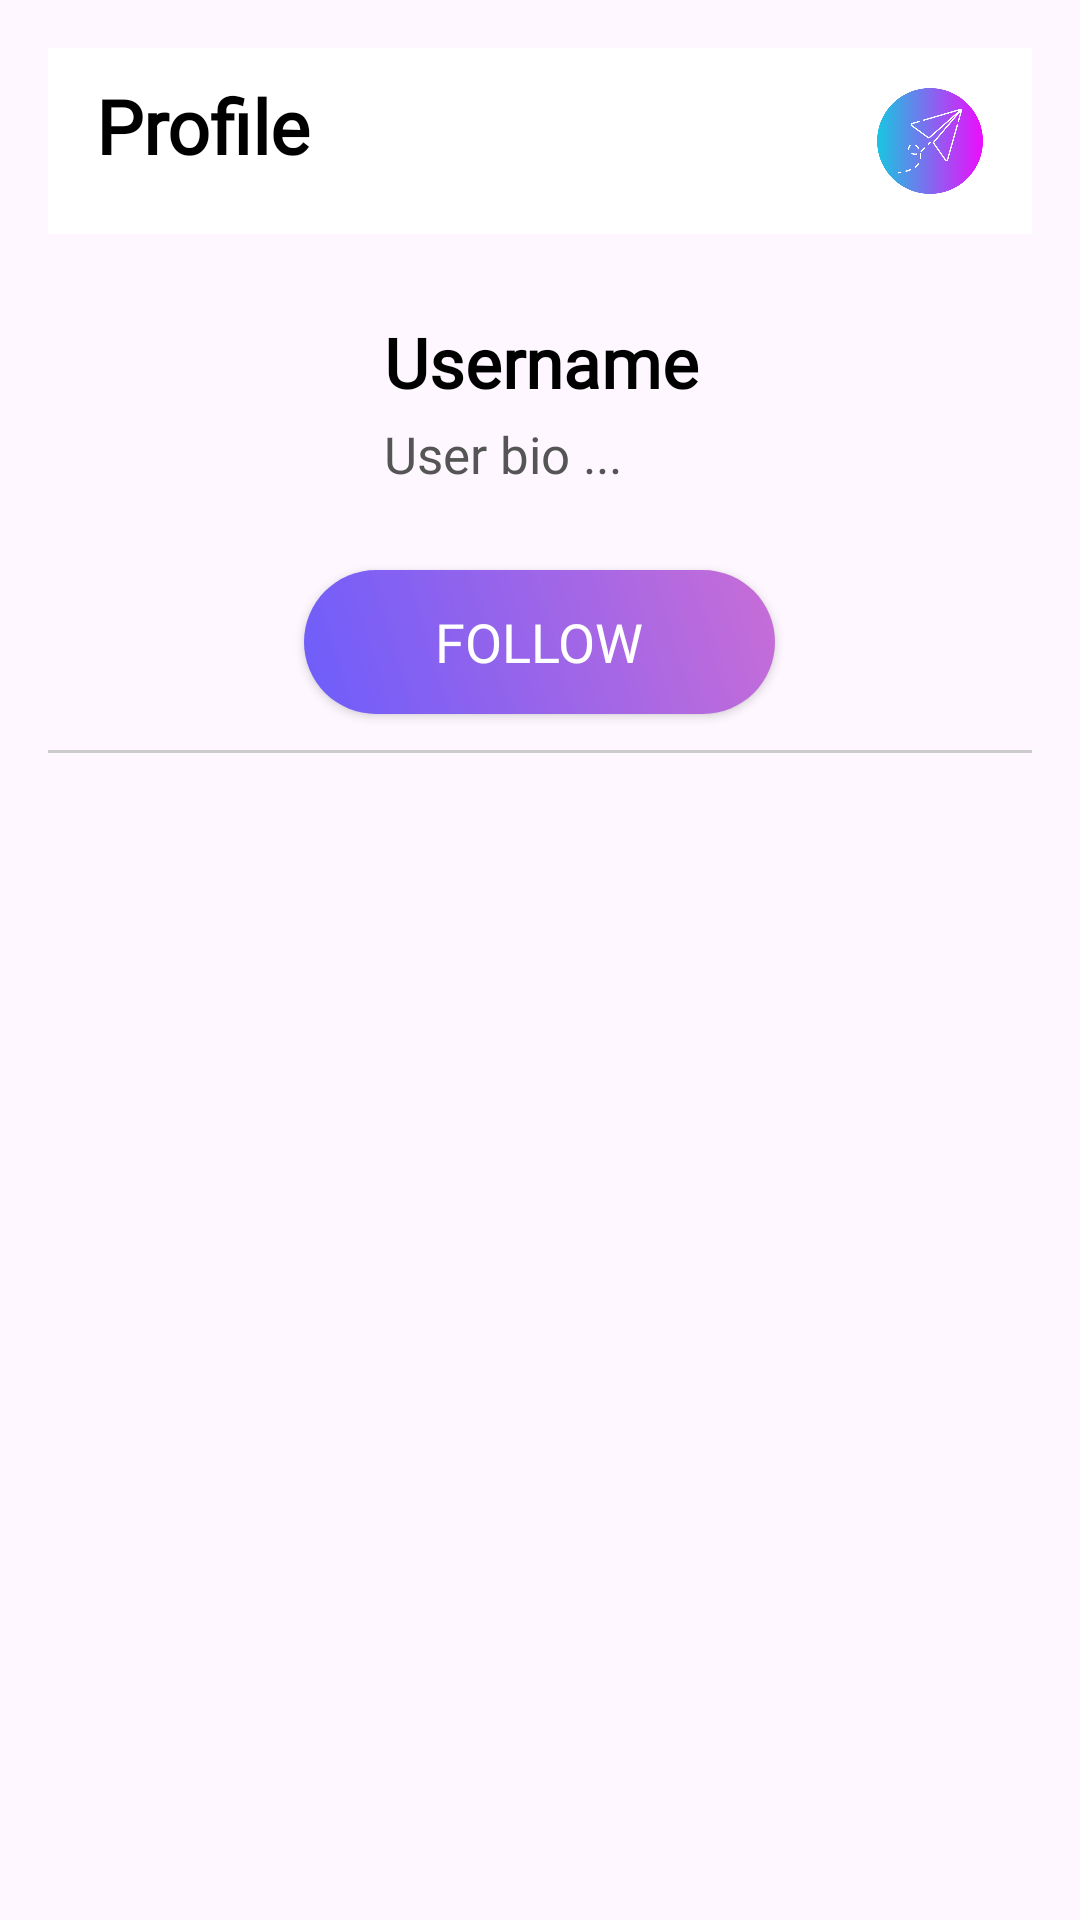

Locate icon controls on the screen. Image size 1080px x 1920px, boxes as (x1, y1, x2, y2).
Chat: (877, 88, 983, 194)
